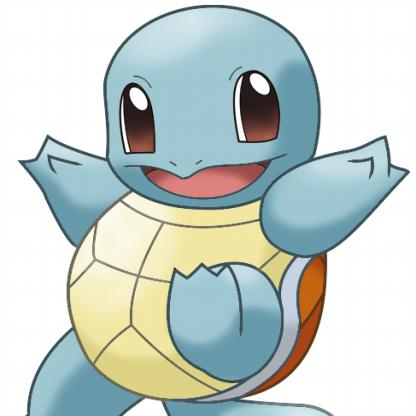Squirtle: (1, 14, 416, 416)
